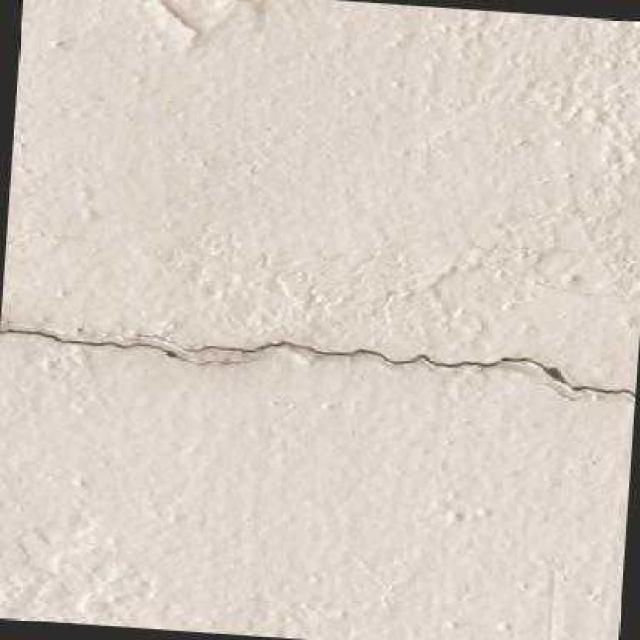D00: (136, 336, 636, 398), (0, 329, 245, 366)
